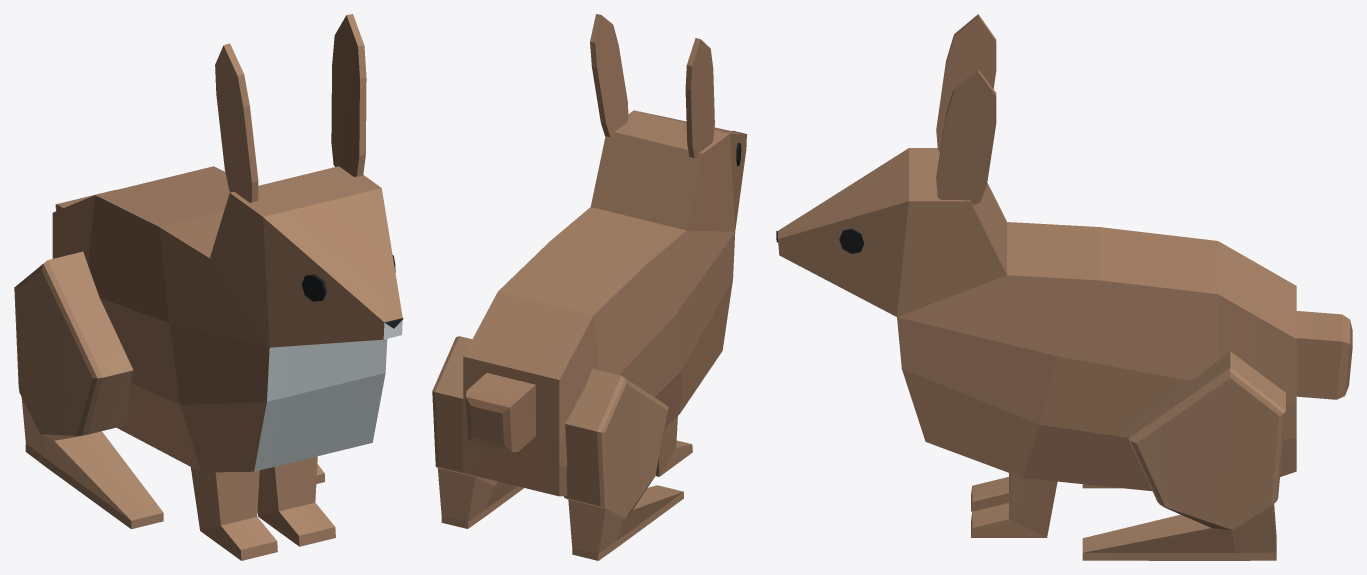
File: bunny.fbx
3 views of the same model, side by side, from view 1: azimuth 30°, elevation 25°; view 2: azimuth 150°, elevation 25°; view 3: azimuth 270°, elevation 25° (orthographic). The views are drawn at different scales.
Parts seen in each view (by area): view 1: Cube.001, Cube, Cube.003, Cube.002, Cube.005; view 2: Cube.001, Cube, Cube.002, Cube.004, Cube.003; view 3: Cube.001, Cube, Cube.002, Cube.003, Cube.004.
Part boxes in pixels (x1=…): Cube.001: x1=52, y1=166, x2=403, y2=472; Cube: x1=14, y1=251, x2=324, y2=529; Cube.003: x1=190, y1=456, x2=335, y2=560; Cube.002: x1=215, y1=14, x2=366, y2=202; Cube.005: x1=301, y1=255, x2=395, y2=301; Cube.001: x1=463, y1=110, x2=746, y2=496; Cube: x1=432, y1=336, x2=683, y2=560; Cube.002: x1=590, y1=14, x2=714, y2=158; Cube.004: x1=465, y1=373, x2=535, y2=451; Cube.003: x1=656, y1=416, x2=692, y2=476; Cube.001: x1=776, y1=148, x2=1296, y2=491; Cube: x1=1082, y1=351, x2=1285, y2=560; Cube.002: x1=936, y1=14, x2=996, y2=204; Cube.003: x1=971, y1=473, x2=1057, y2=537; Cube.004: x1=1296, y1=311, x2=1352, y2=399.
Bounding box in the file's own units: 580 × 1350 × 1480.
1 material, 1 textured.
